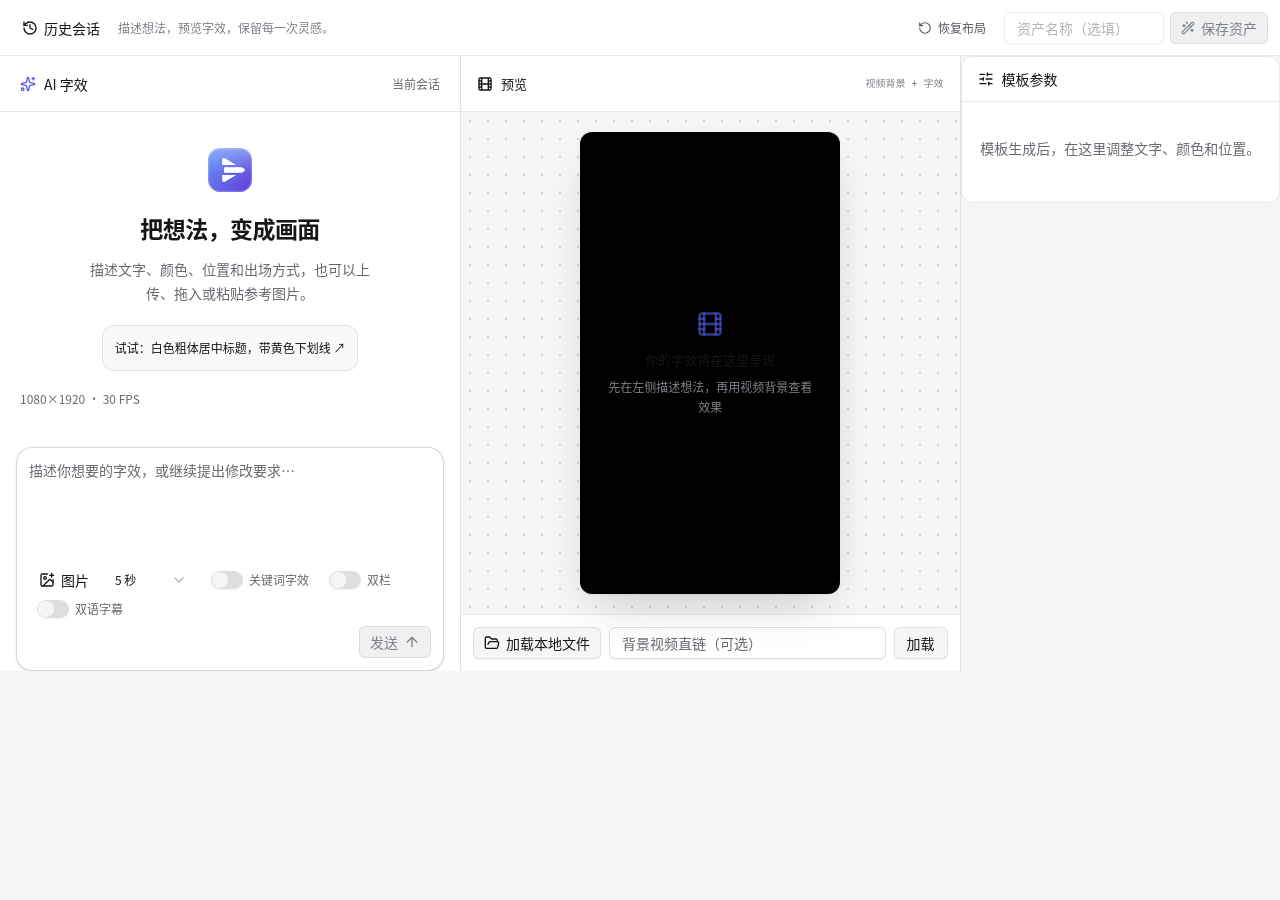
Test: 消息等待不冒充预览渲染
Type "你能做什么？" into the text box named "字效描述" at (230, 508), box [29,460,431,556]
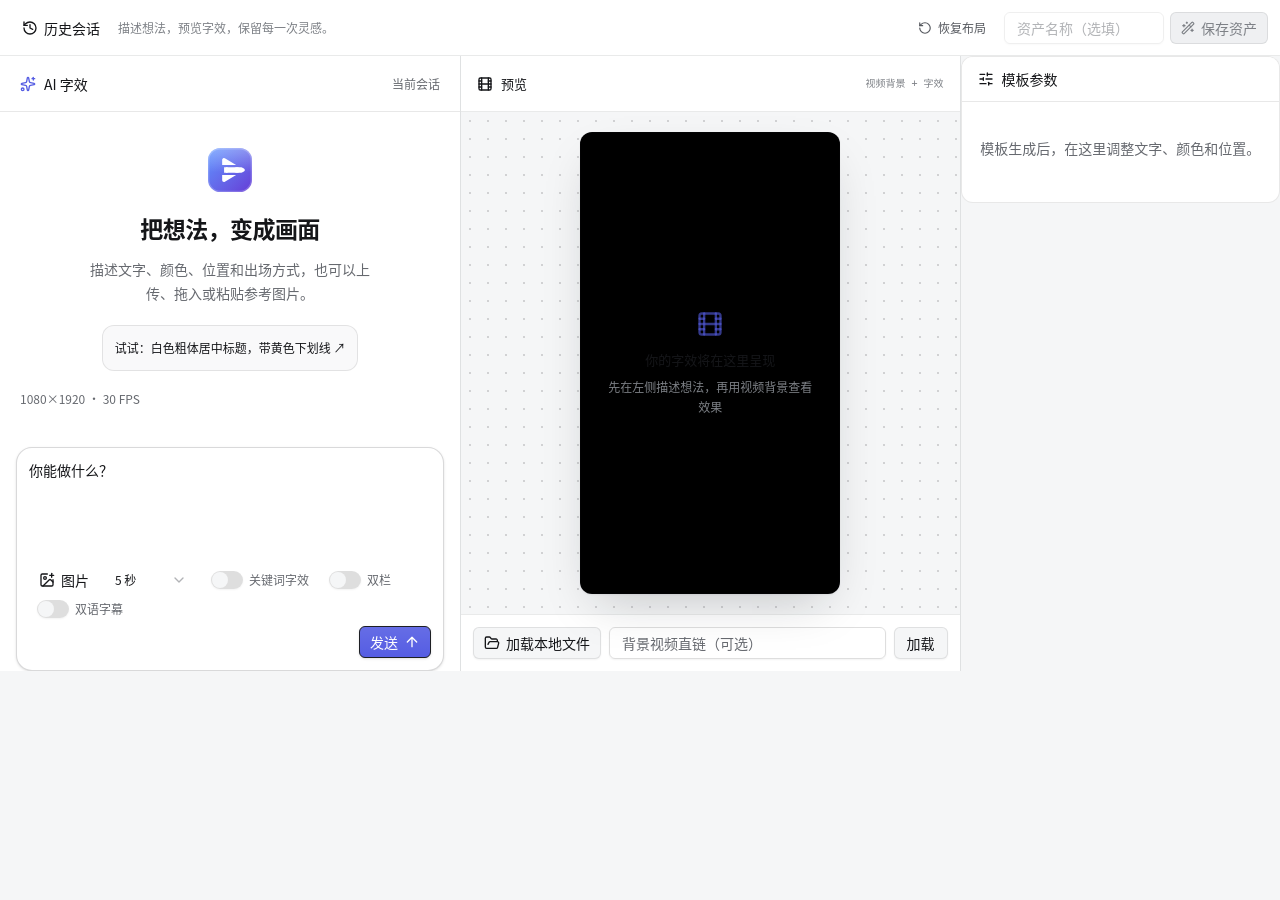
Submit the form "图片 5 秒 关键词字效 双栏 双语字幕 发送", box [16,447,444,671]
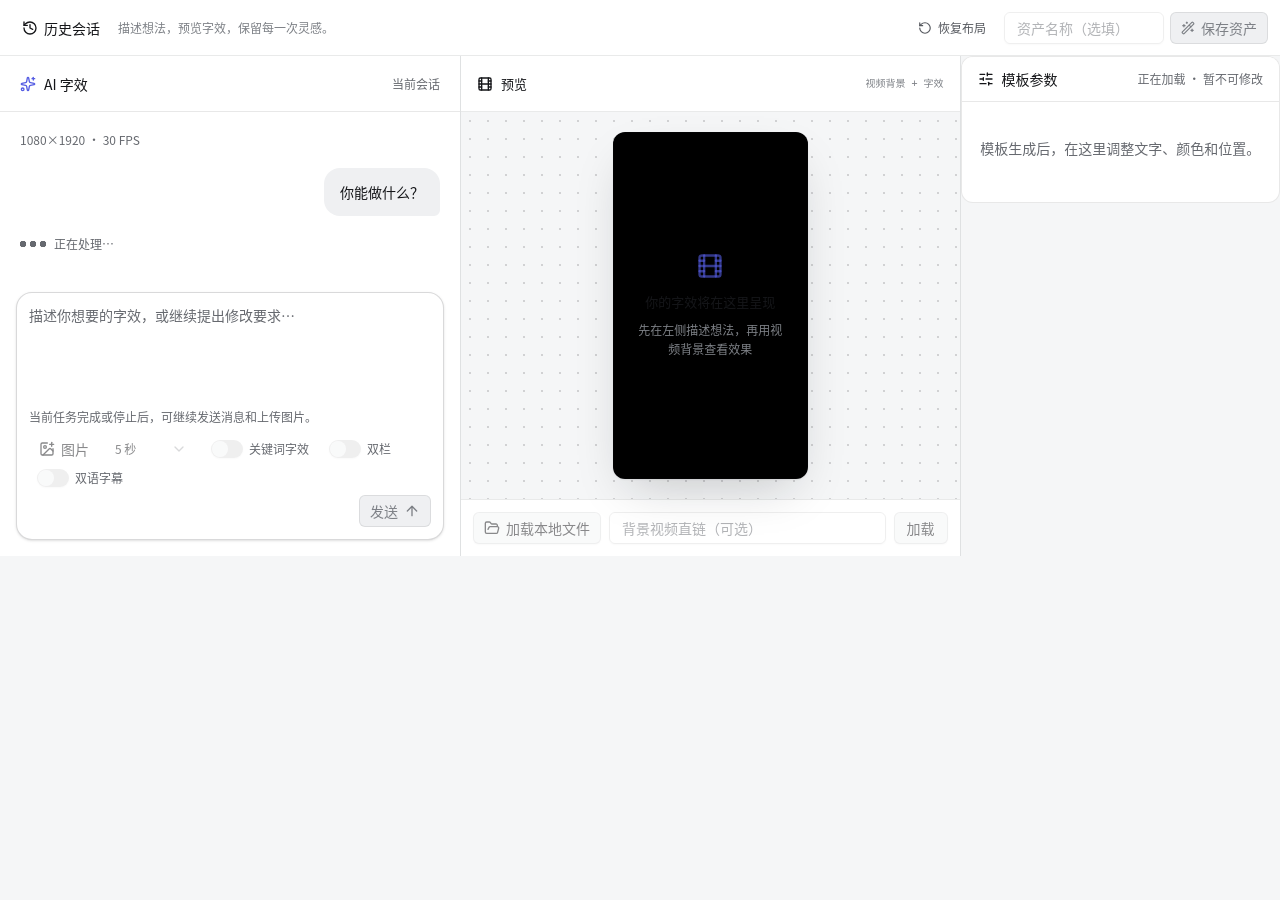
Now the button "发送" is disabled, box [359,495,431,527]
